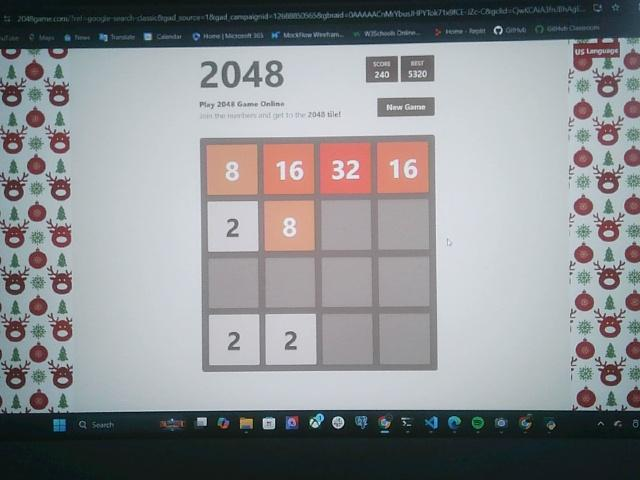board: (201, 137, 436, 372)
tile: (265, 314, 317, 366), (207, 143, 258, 196), (263, 143, 314, 196), (378, 141, 429, 194), (265, 200, 316, 252), (321, 143, 372, 194), (208, 202, 259, 253), (209, 315, 259, 366)
